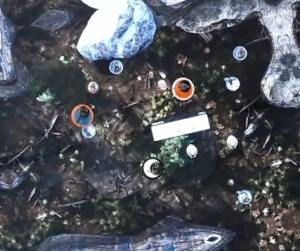light_blue_orange: (67, 102, 95, 129)
orange: (169, 75, 196, 102)
white: (138, 157, 165, 185)
